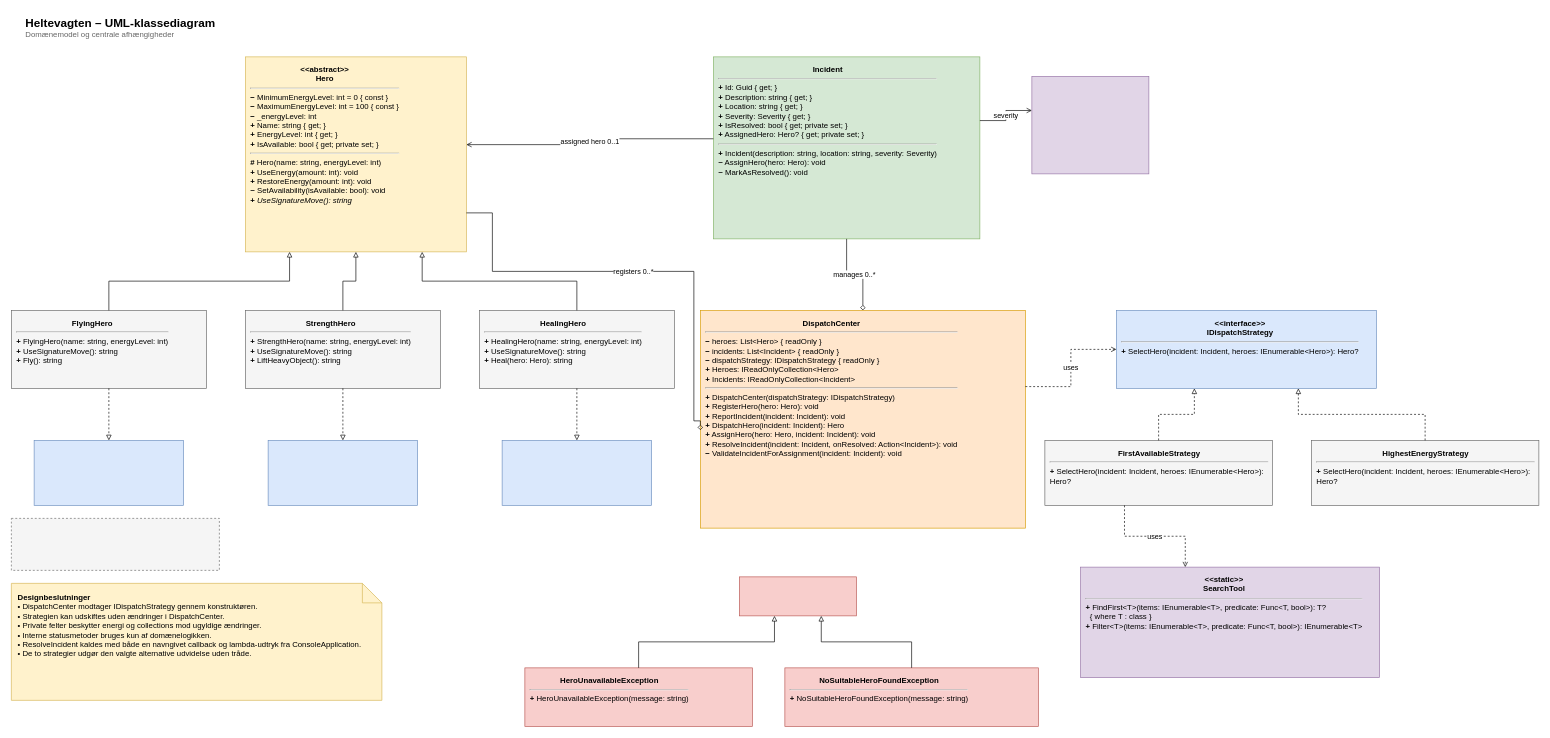
Image size: 1550x738. Some labels were removed from this diagram. The shapes that lost their labels are listed below. From the top down, each one's centre as x and y in pixels, then its label:
the point at 1090,125: <<enumeration>> Severity Low Medium High
the point at 108,472: <<interface>> IFlyable + Fly(): string
the point at 342,472: <<interface>> ISuperStrong + LiftHeavyObject(): string
the point at 576,472: <<interface>> IHealer + Heal(hero: Hero): string
the point at 115,544: Synlighed + public − private # protected ~ internal Kursiv metode = abstract
the point at 797,596: Exception
